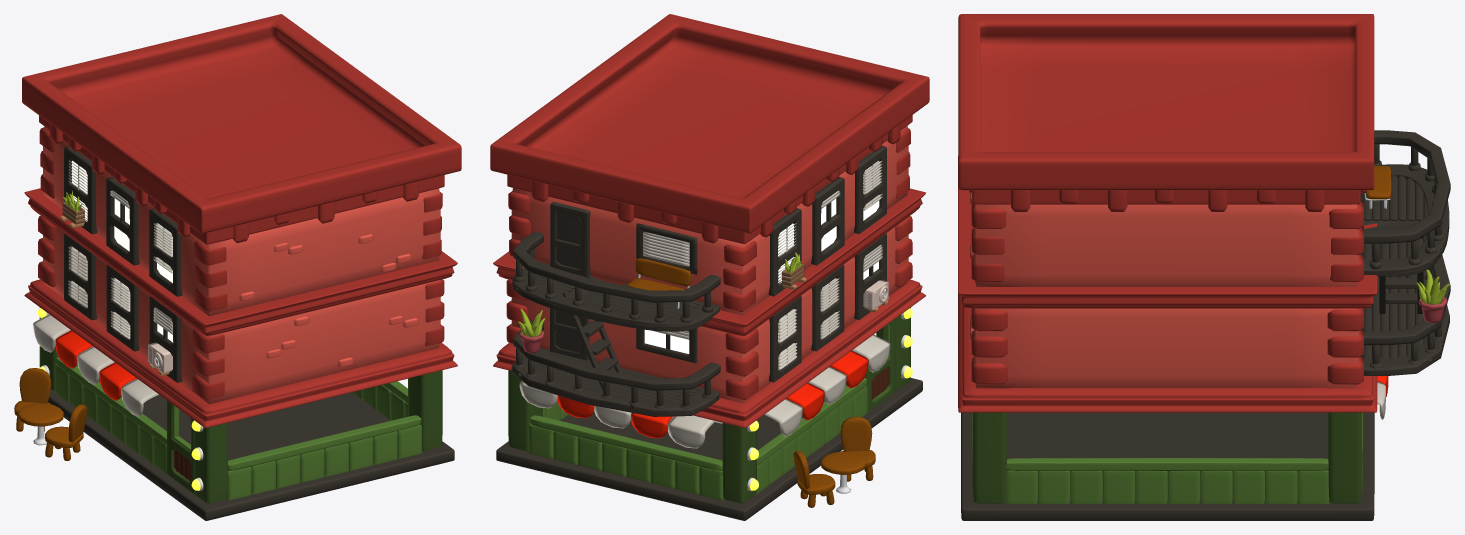
Rendered from pizzaremaster.fbx.
The picture shows the model from 3 angles, left to right: view 1: azimuth 30°, elevation 25°; view 2: azimuth 150°, elevation 25°; view 3: azimuth 270°, elevation 25°; orthographic projection. The views are drawn at different scales.
Visible parts, largest first — view 1: Cube.105, Cube.019, Cube.029, Cube.001, Cube.005, Cube.025, Cube.055, Cube.002, Cube.118, Cube.008, Cube.056, Cube.074 (+5 smaller); view 2: Cube.105, Cube.019, Retopo_Cube.057, Cube.029, Cube.025, Cube.001, Cube.005, Cube.118, Cube.055, Cube.002, Cube.008, Cylinder.009 (+20 smaller); view 3: Cube.105, Cube.019, Cube.001, Cube.029, Cube.005, Retopo_Cube.057, Cube.055, Cube.002, Cylinder.009, Cube.008, Cube.056, Cube.113 (+4 smaller).
Part boxes in pixels (x1,y1,x2,y2): Cube.105: [22, 14, 461, 233]; Cube.019: [43, 126, 440, 404]; Cube.029: [24, 188, 457, 427]; Cube.001: [48, 378, 454, 520]; Cube.005: [54, 362, 421, 500]; Cube.025: [64, 146, 182, 382]; Cube.055: [38, 127, 444, 399]; Cube.002: [39, 307, 442, 503]; Cube.118: [33, 314, 158, 416]; Cube.008: [55, 357, 421, 471]; Cube.056: [39, 115, 444, 244]; Cube.074: [68, 160, 172, 339]; Cube.105: [490, 14, 929, 233]; Cube.019: [511, 126, 908, 403]; Retopo_Cube.057: [511, 231, 720, 416]; Cube.029: [493, 188, 925, 427]; Cube.025: [768, 145, 886, 382]; Cube.001: [496, 378, 922, 520]; Cube.005: [529, 385, 867, 500]; Cube.118: [519, 334, 890, 448]; Cube.055: [506, 128, 912, 399]; Cube.002: [508, 307, 910, 503]; Cube.008: [529, 378, 866, 471]; Cylinder.009: [516, 274, 701, 413]; Cube.105: [958, 14, 1374, 190]; Cube.019: [973, 204, 1358, 388]; Cube.001: [961, 412, 1374, 520]; Cube.029: [958, 156, 1377, 412]; Cube.005: [972, 455, 1362, 503]; Retopo_Cube.057: [1363, 130, 1450, 375]; Cube.055: [971, 202, 1363, 384]; Cube.002: [973, 412, 1362, 503]; Cylinder.009: [1362, 175, 1432, 362]; Cube.008: [972, 412, 1362, 470]; Cube.056: [972, 190, 1360, 204]; Cube.113: [969, 190, 1366, 211].
Size of the model in its own units: 1868 by 1775 by 2174.
